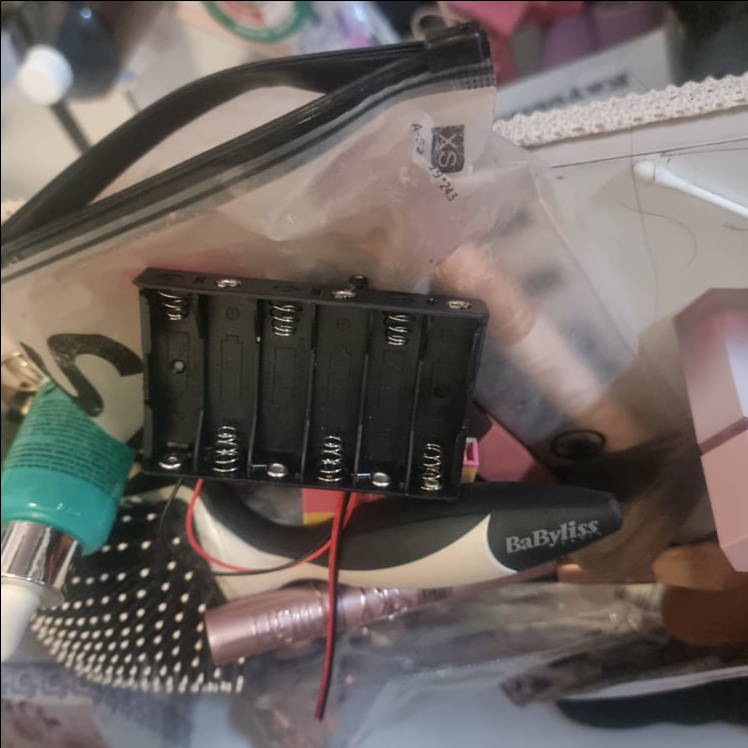BATTERY BOX: (129, 264, 488, 499)
